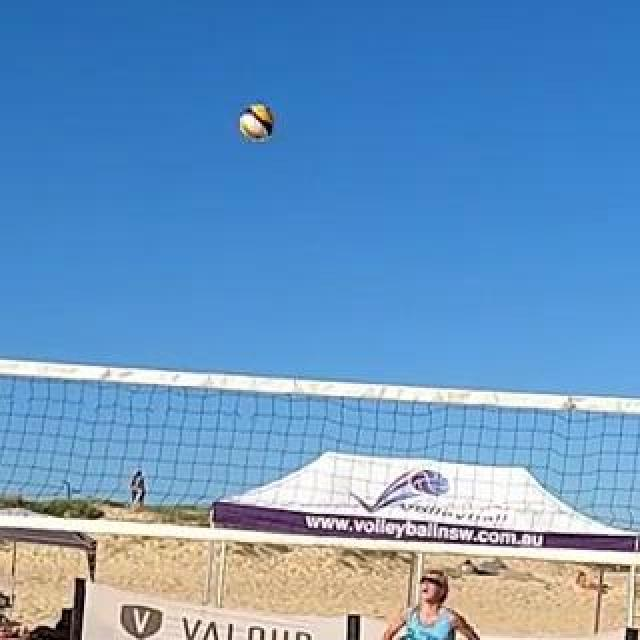volleyball: (239, 108, 273, 140)
